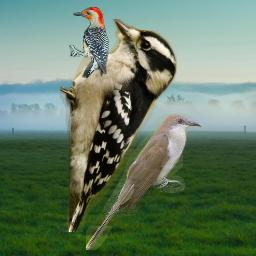Cuckoo: (86, 114, 202, 250)
Woodpecker: (60, 19, 177, 232), (69, 7, 110, 78)
